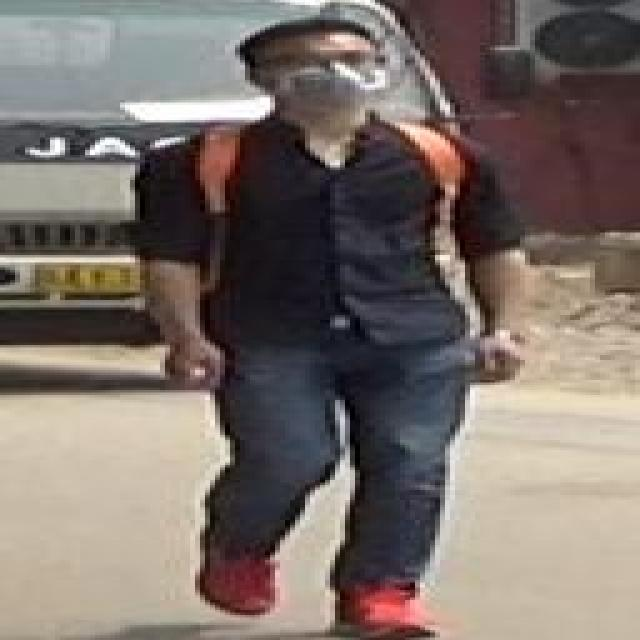adult: (105, 12, 555, 640)
